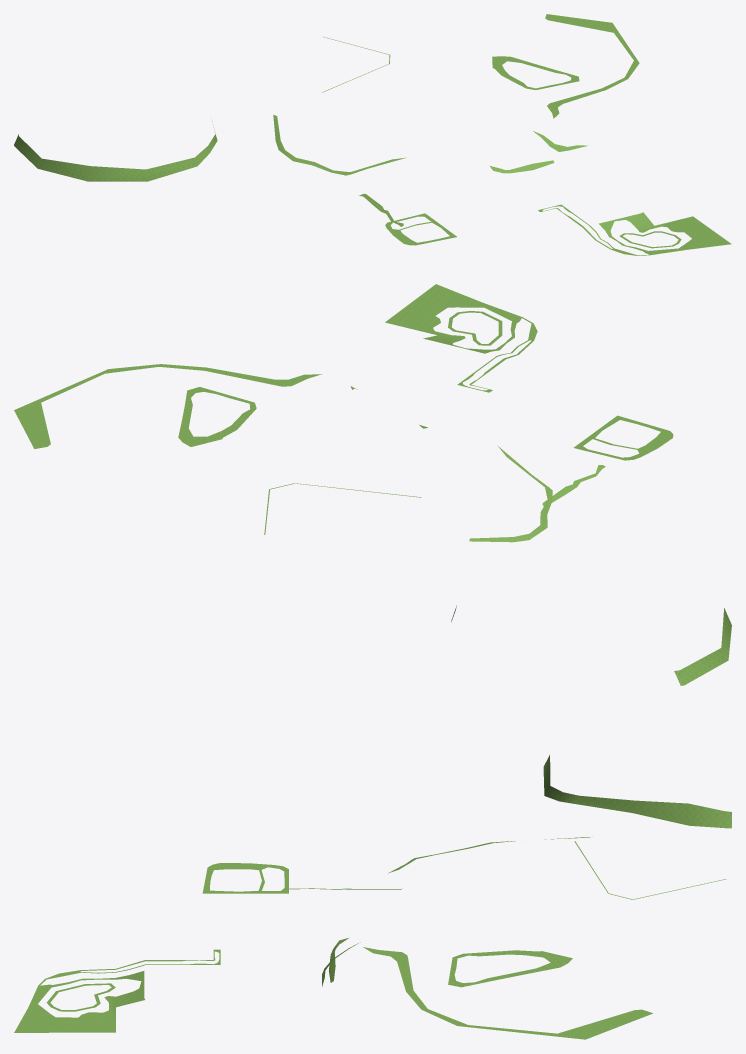
The model's file is kd_stage_1363c5_9_14_bounded.glb.
3 views of the same model, one above another, from view 1: azimuth 30°, elevation 25°; view 2: azimuth 150°, elevation 25°; view 3: azimuth 270°, elevation 25° (orthographic). The views are drawn at different scales.
Parts seen in each view (by area): view 1: kd_stage_1363c5_9_14_bounded; view 2: kd_stage_1363c5_9_14_bounded; view 3: kd_stage_1363c5_9_14_bounded.
Part boxes in pixels (x1,y1,x2,y2): kd_stage_1363c5_9_14_bounded: [14, 14, 731, 255]; kd_stage_1363c5_9_14_bounded: [14, 284, 731, 685]; kd_stage_1363c5_9_14_bounded: [14, 755, 731, 1039].
Bounding box in the file's own units: 197 × 16.99 × 167.
1 material, 1 textured.
